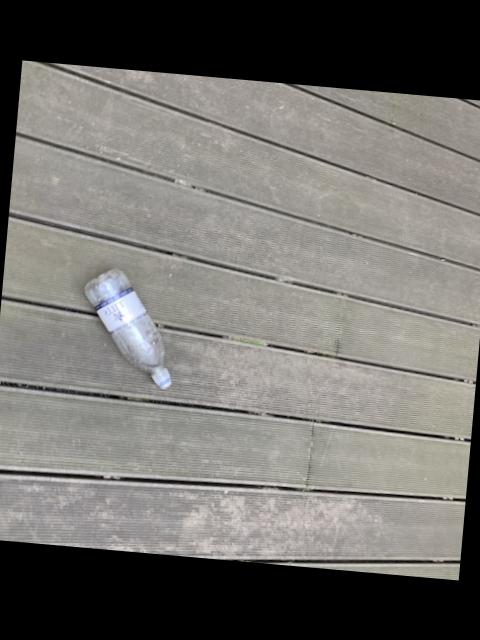plastic: (85, 270, 171, 389)
